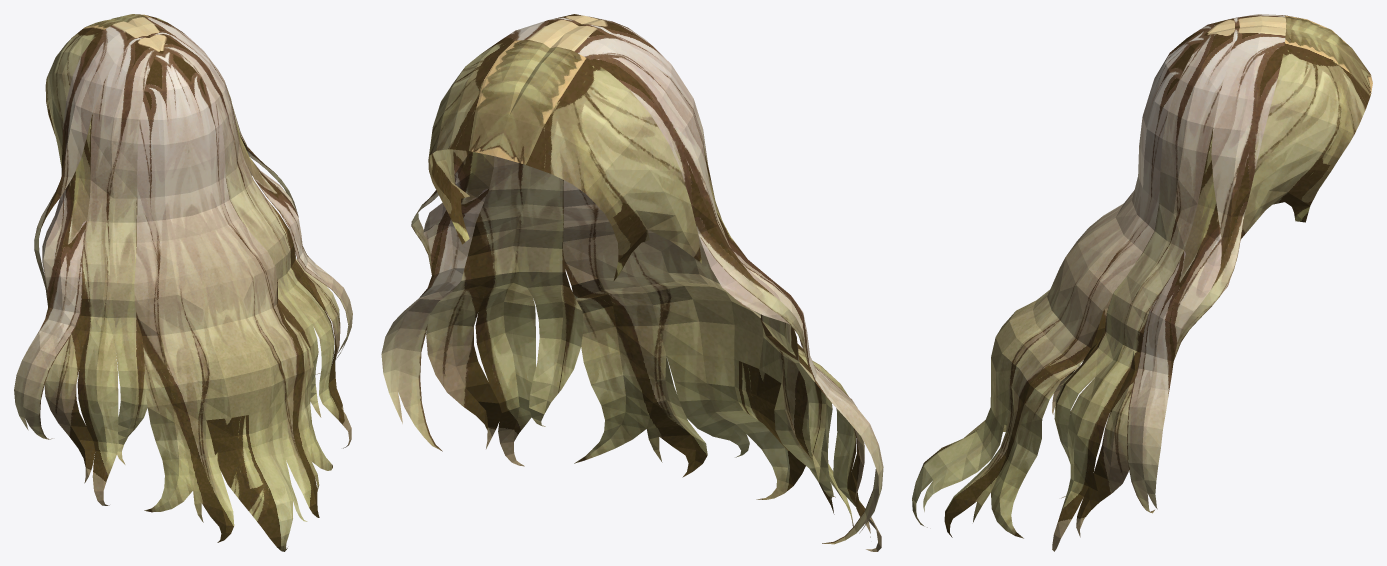
The model's file is skinSource0HLE.obj.
3 renders of one model, left to right at view 1: azimuth 30°, elevation 25°; view 2: azimuth 150°, elevation 25°; view 3: azimuth 270°, elevation 25°, orthographic. The views are drawn at different scales.
Parts seen in each view (by area): view 1: skinSource0HLE; view 2: skinSource0HLE; view 3: skinSource0HLE.
Part boxes in pixels (x1,y1,x2,y2): skinSource0HLE: (14, 14, 352, 551); skinSource0HLE: (381, 14, 883, 551); skinSource0HLE: (912, 14, 1372, 551).
Size of the model in its own units: 43.57 by 52.26 by 43.71.
